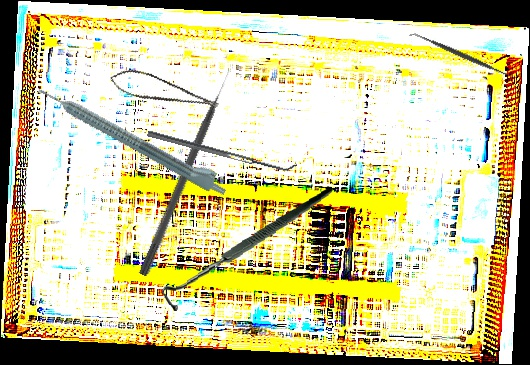Handpiece: (35, 76, 233, 199)
Hook Surgical: (154, 188, 343, 312)
Micro Scissor: (106, 60, 221, 127)
Pusher: (138, 68, 236, 278)
Spatula Surgical: (147, 124, 297, 176), (408, 26, 515, 84)
